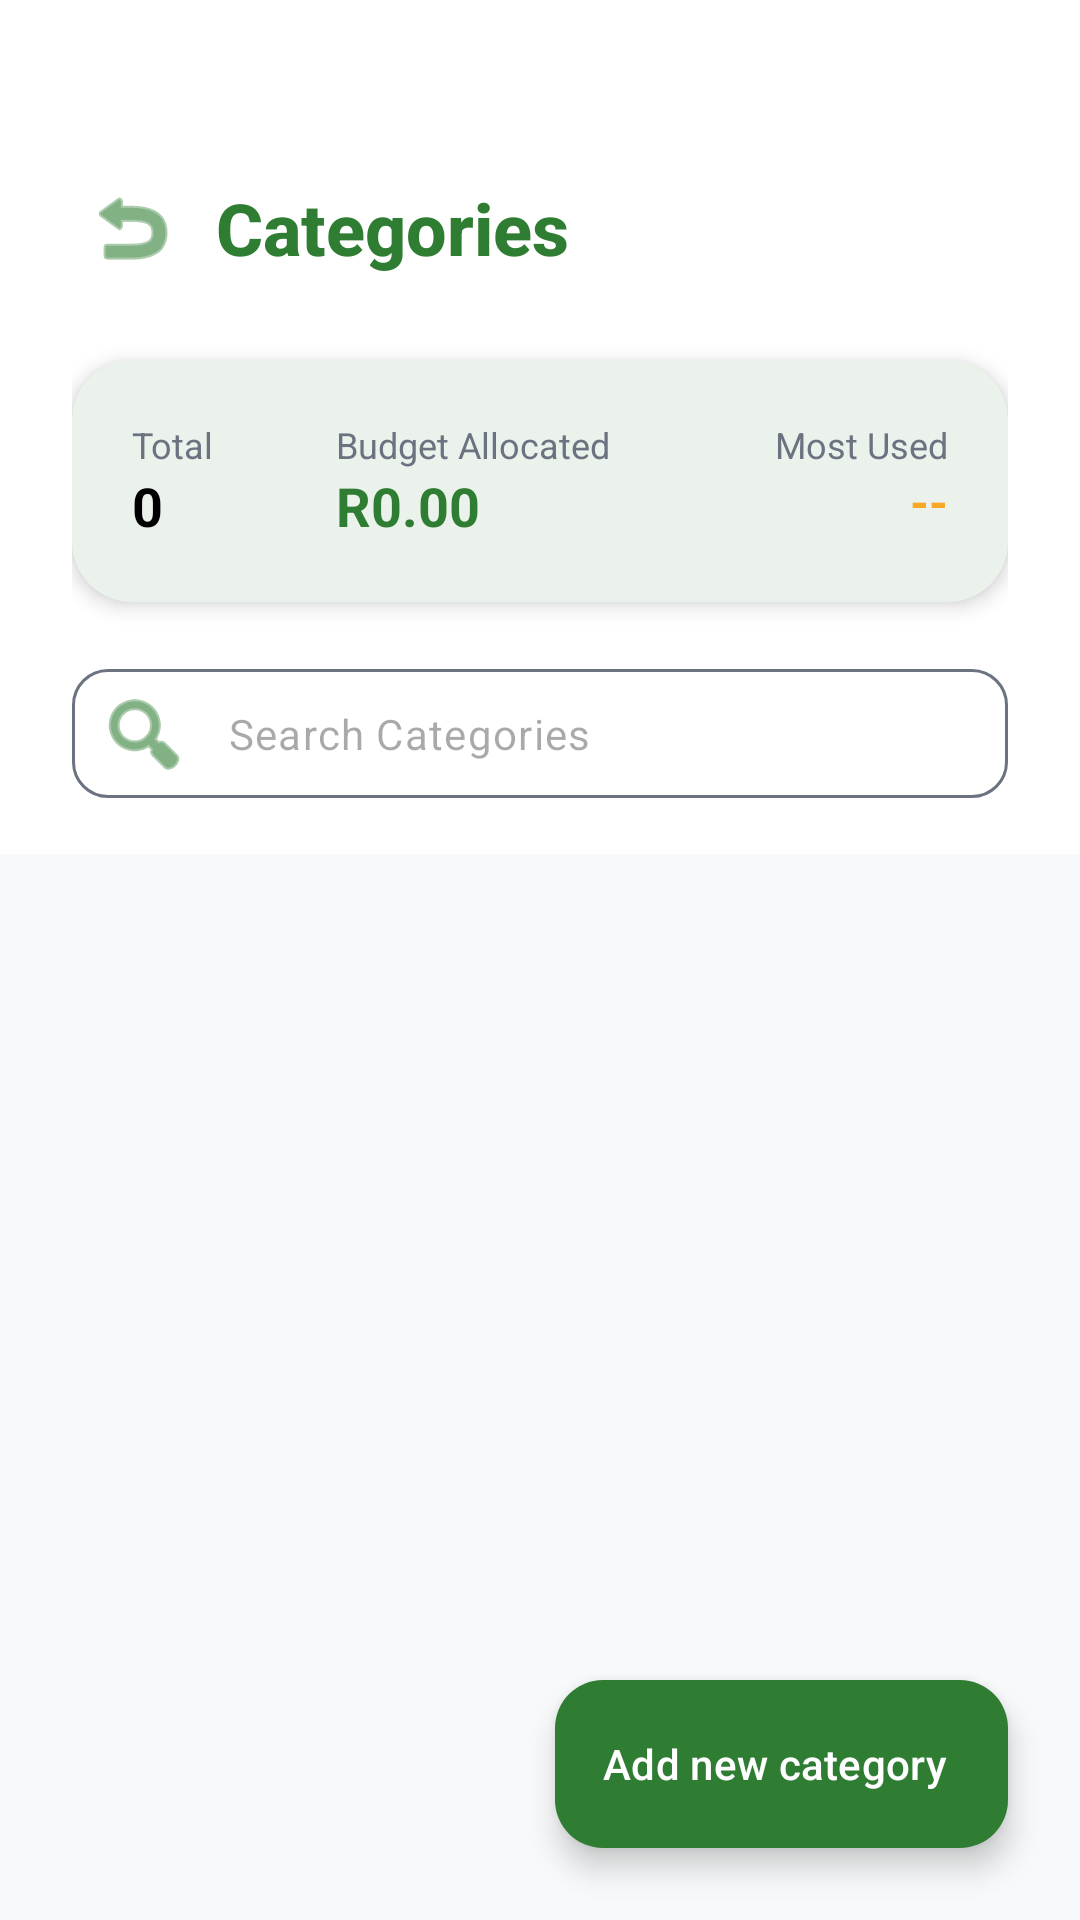

Icon click points for this 1080 x 1920 phone screenshot, format point (x, y):
revert: point (133, 228)
